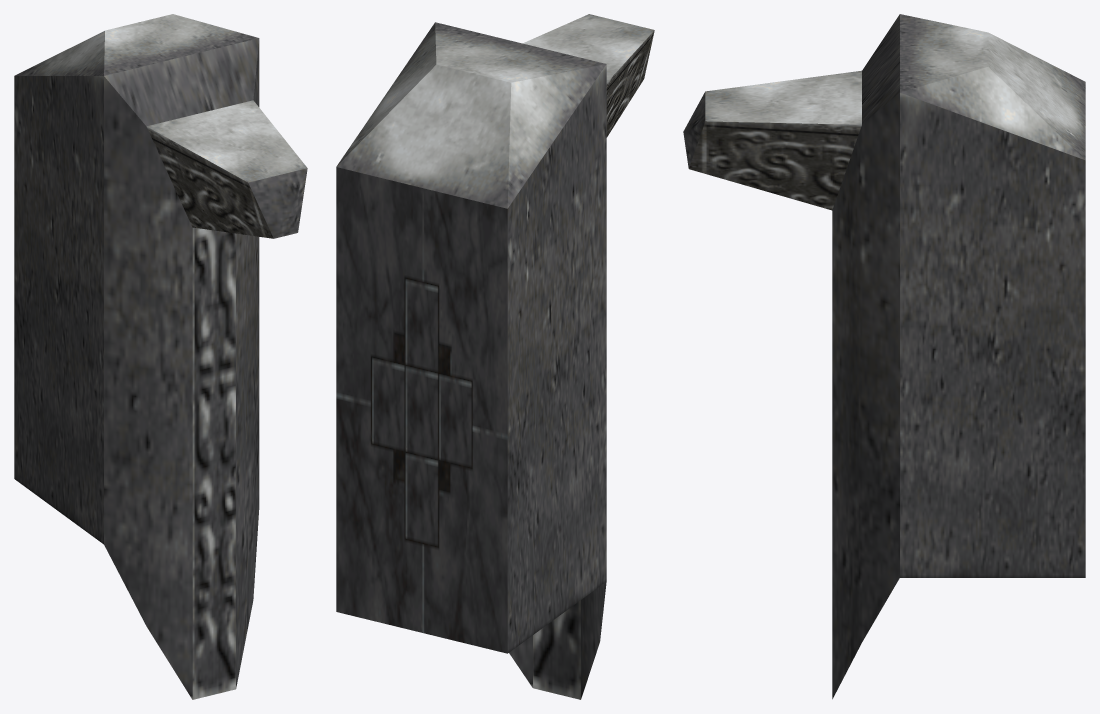
3 renders of one model, left to right at view 1: azimuth 30°, elevation 25°; view 2: azimuth 150°, elevation 25°; view 3: azimuth 270°, elevation 25°, orthographic. The views are drawn at different scales.
Parts seen in each view (by area): view 1: a34_2; view 2: a34_2; view 3: a34_2.
Part boxes in pixels (x1,y1,x2,y2): a34_2: (14, 14, 307, 699); a34_2: (336, 14, 654, 699); a34_2: (683, 14, 1085, 699).
Size of the model in its own units: 254 by 964 by 550.
